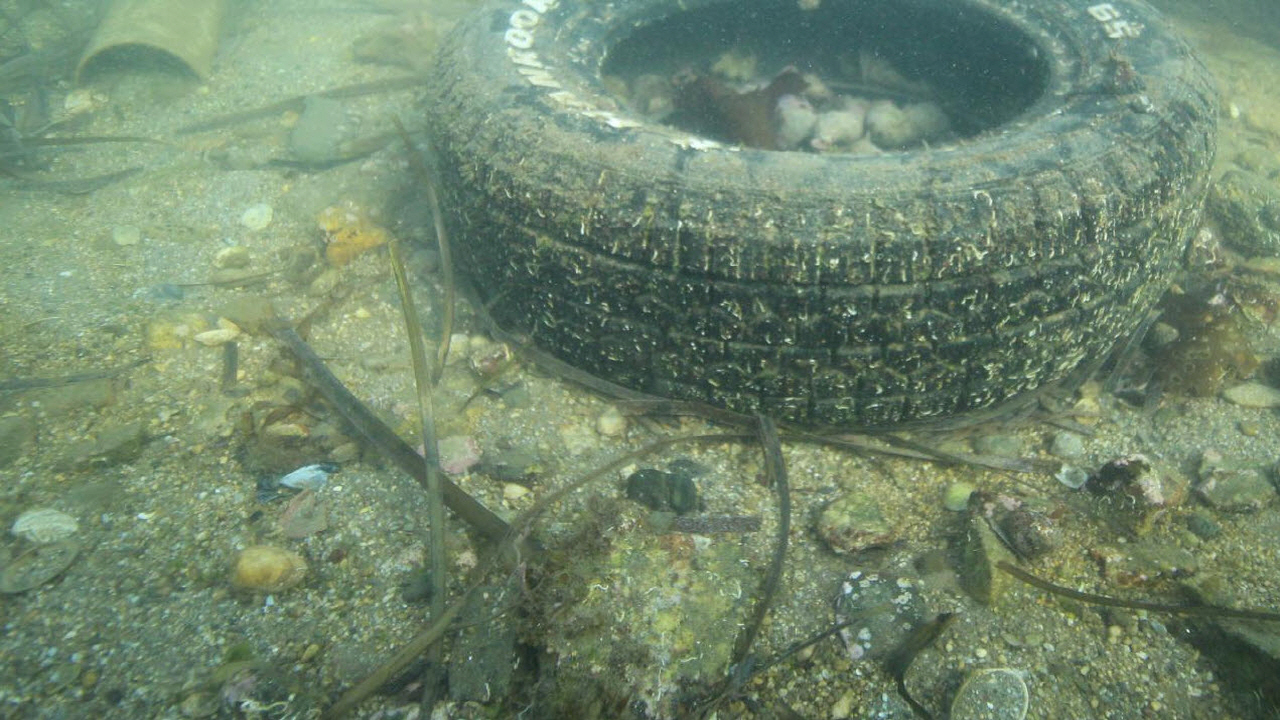tire: (425, 0, 1221, 423)
